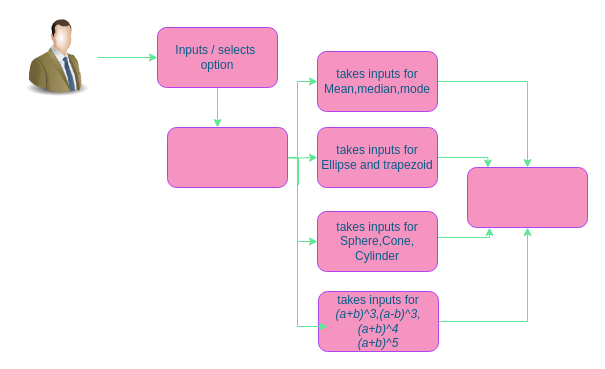
The diagram is 605 pixels wide and 369 high, and some of its shapes have lost their labels. Here are the shapes that lost their labels. From the top down, the box of each, then its label:
(17, 17, 97, 97): User
(166, 126, 288, 188): Inputs / selects for option
(466, 166, 588, 228): Prints calculated value
